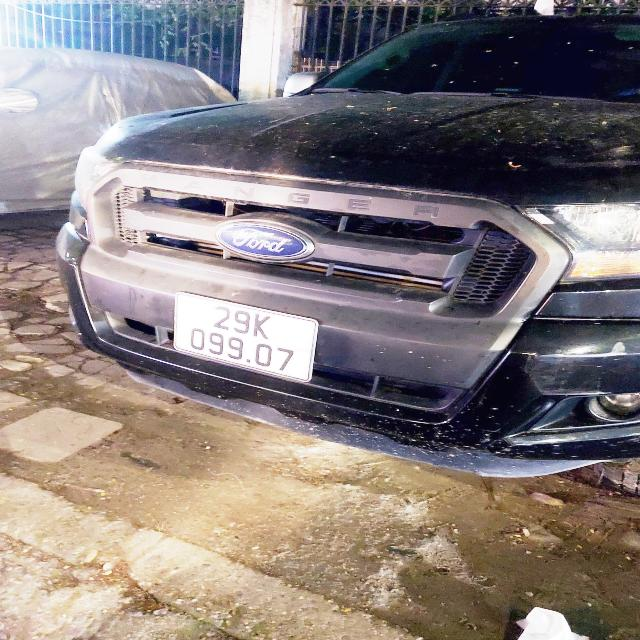license_plate: (170, 285, 324, 385)
